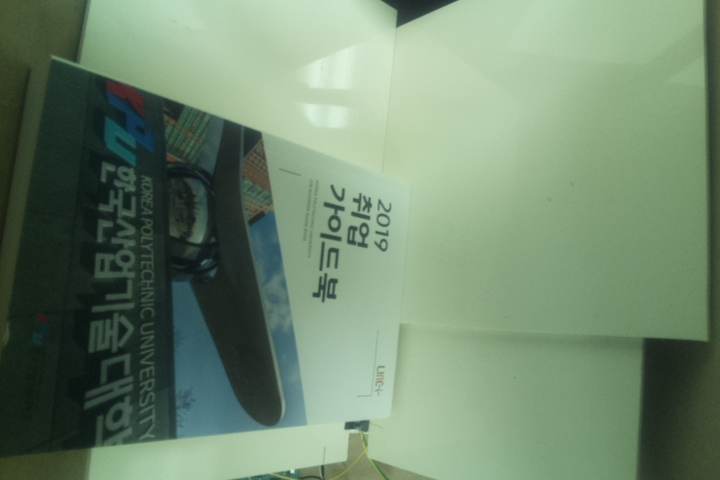book: (1, 54, 419, 458)
